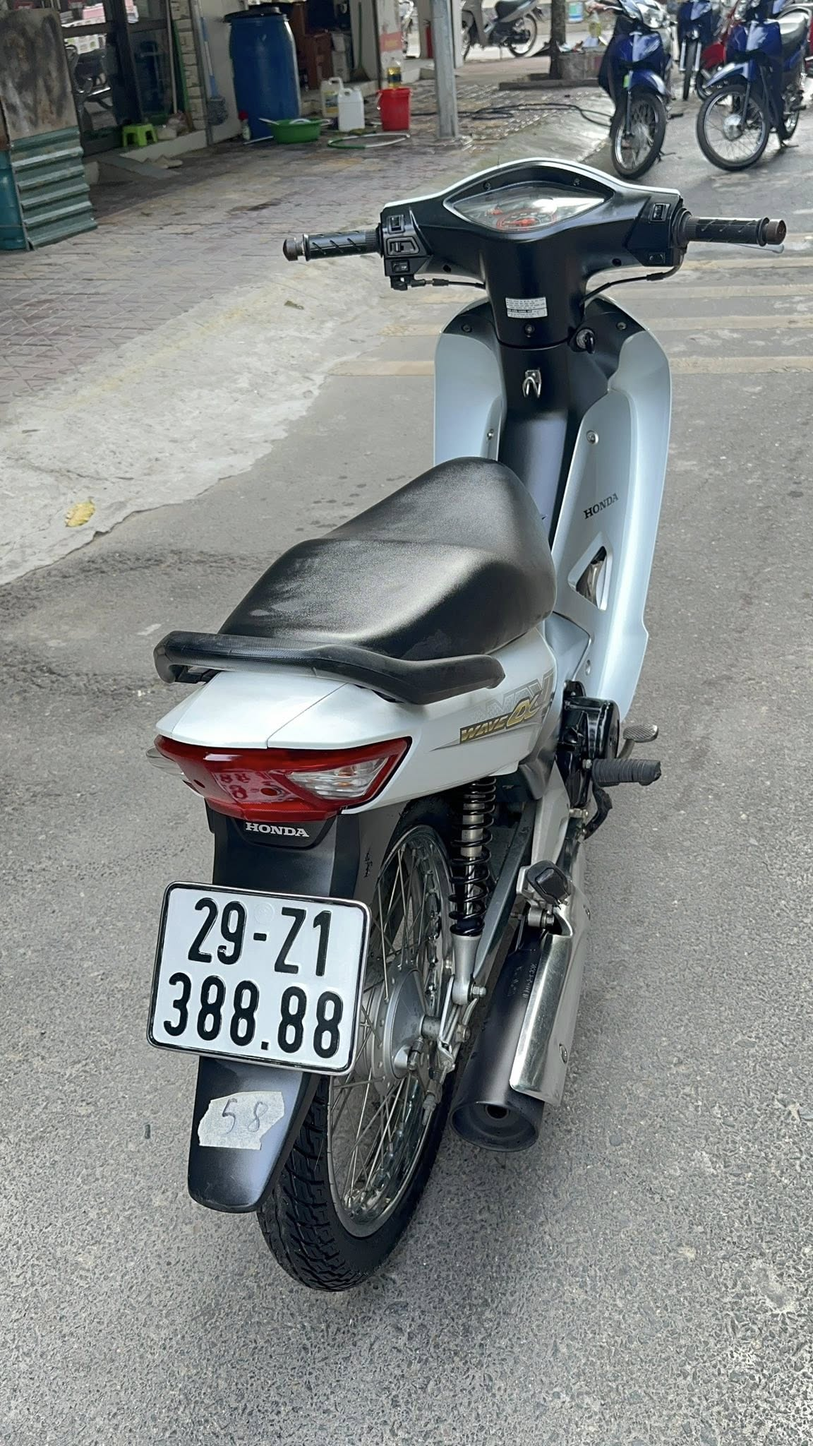bien_so: (139, 869, 379, 1085)
